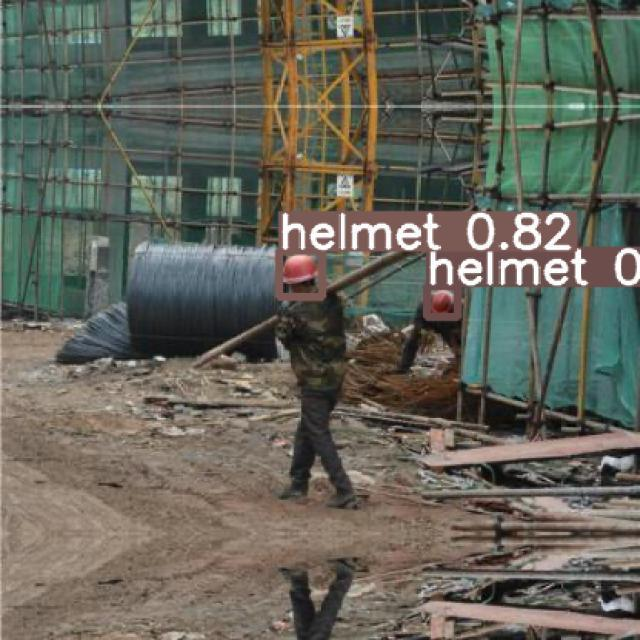red helmet: (284, 253, 319, 294), (432, 285, 456, 314)
